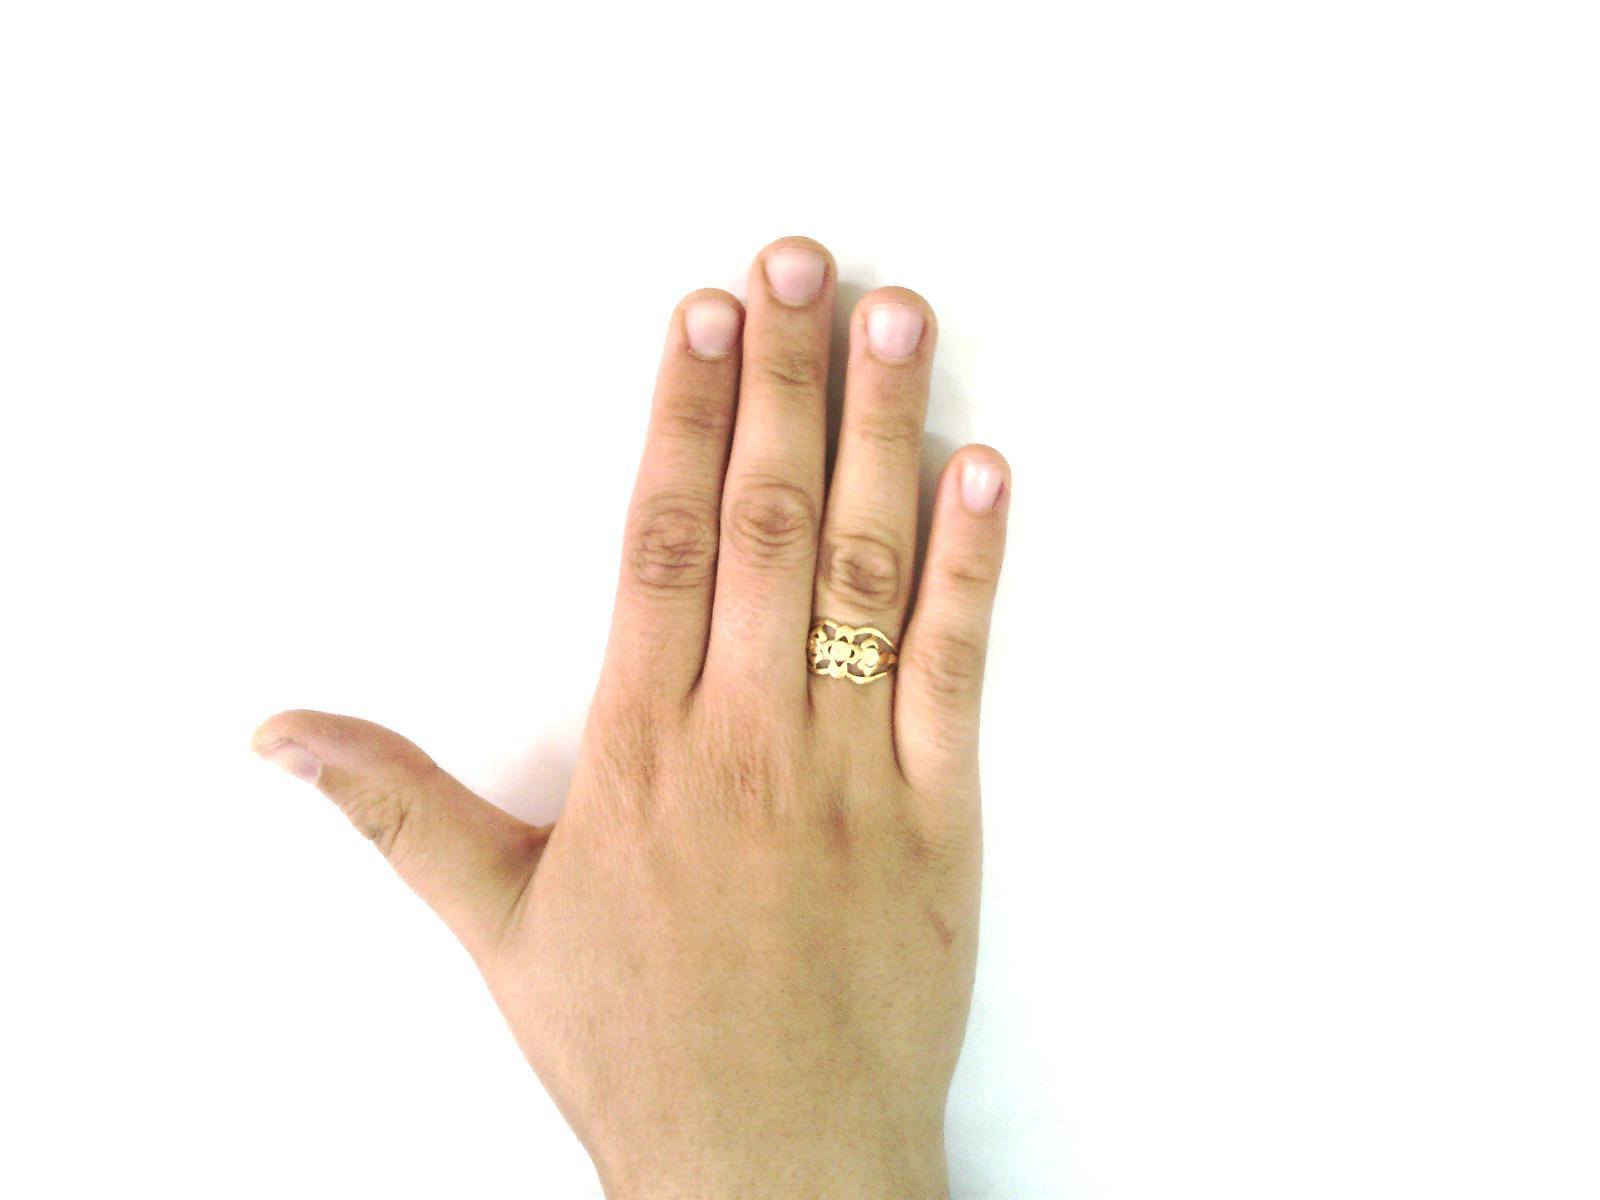hand: (247, 227, 1020, 1199)
